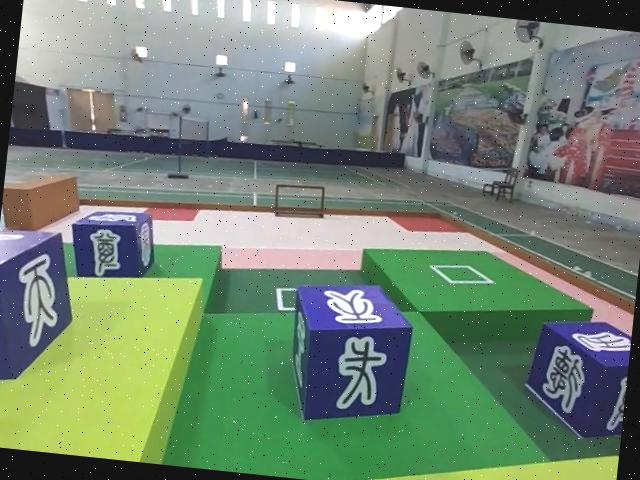R2 Fake Blue: (283, 278, 417, 431), (521, 315, 633, 443), (0, 225, 83, 389), (66, 205, 159, 286)
